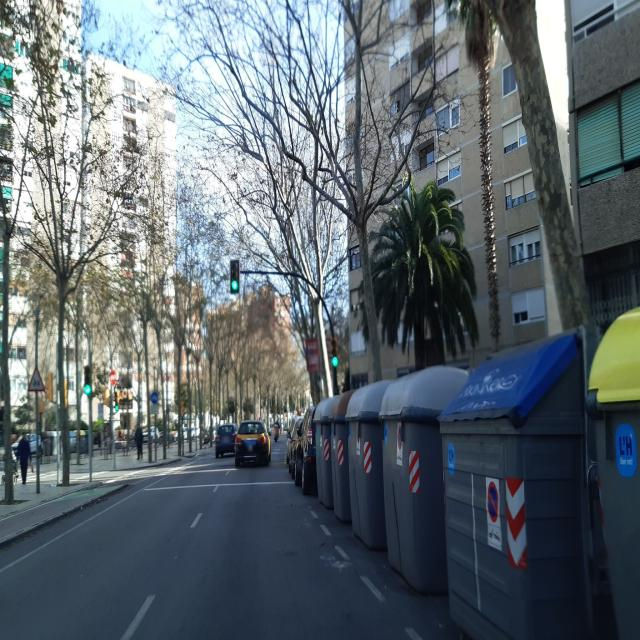forb_stopping: (398, 425, 402, 451)
